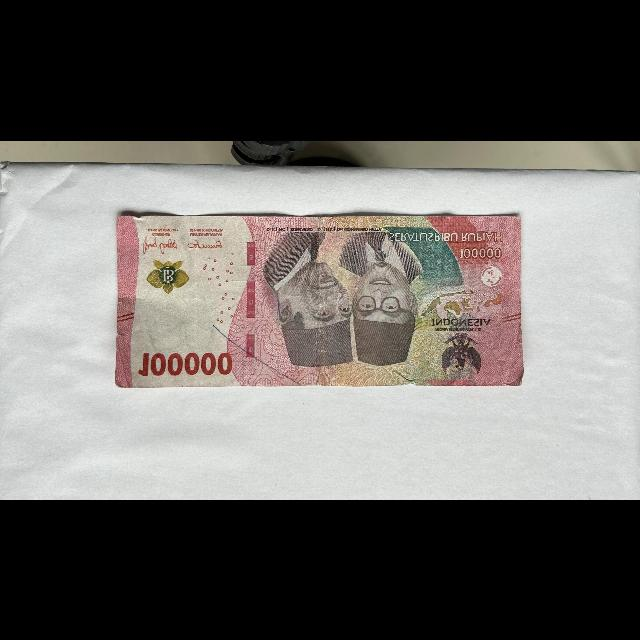Palsu-100k: (114, 213, 525, 387)
Tinta-Palsu-100k: (146, 258, 190, 294)
